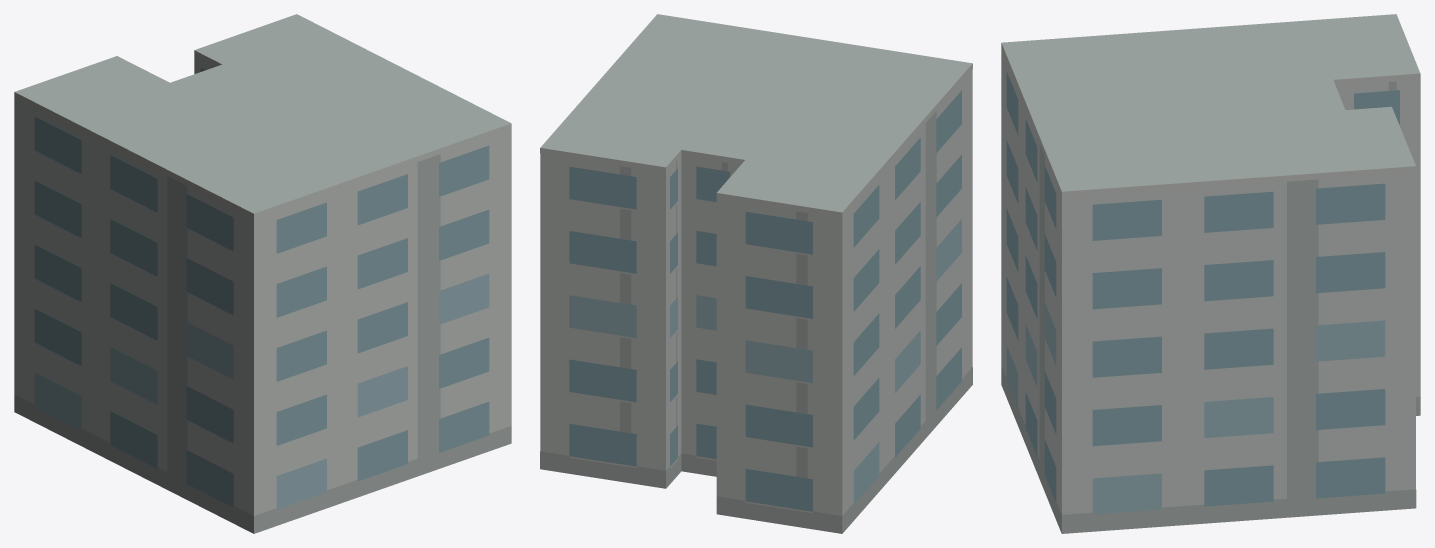
Rendered from residential-47a09ec5-4a12-4ca8-9855-4b08bc0324fe.glb.
3 renders of one model, left to right at view 1: azimuth 30°, elevation 25°; view 2: azimuth 150°, elevation 25°; view 3: azimuth 270°, elevation 25°, orthographic. The views are drawn at different scales.
Parts seen in each view (by area): view 1: residential-47a09ec5-4a12-4ca8-9855-4b08bc0324fe.tmp; view 2: residential-47a09ec5-4a12-4ca8-9855-4b08bc0324fe.tmp; view 3: residential-47a09ec5-4a12-4ca8-9855-4b08bc0324fe.tmp.
Part boxes in pixels (left/top/right/bottom): residential-47a09ec5-4a12-4ca8-9855-4b08bc0324fe.tmp: left=14, top=14, right=511, bottom=533; residential-47a09ec5-4a12-4ca8-9855-4b08bc0324fe.tmp: left=540, top=14, right=972, bottom=533; residential-47a09ec5-4a12-4ca8-9855-4b08bc0324fe.tmp: left=1001, top=14, right=1420, bottom=533.
Bounding box in the file's own units: 15.05 × 13.5 × 15.
